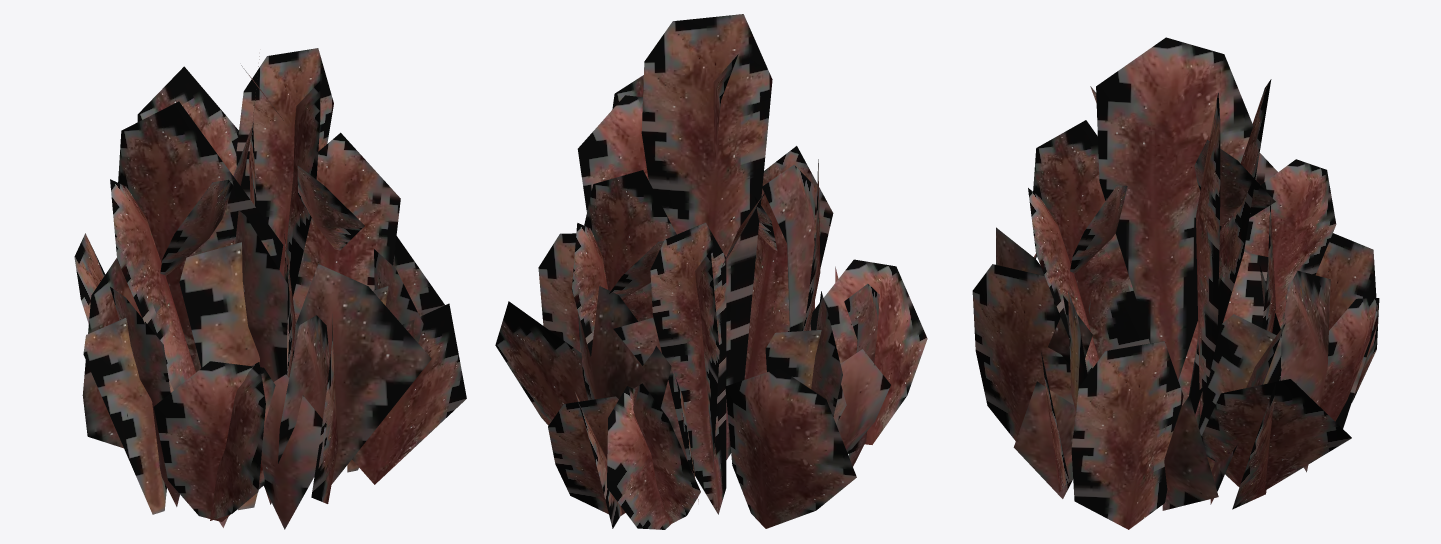
Rendered from RedAlgae01-transformed.glb.
3 renders of one model, left to right at view 1: azimuth 30°, elevation 25°; view 2: azimuth 150°, elevation 25°; view 3: azimuth 270°, elevation 25°, orthographic. The views are drawn at different scales.
Visible parts, largest first — view 1: RedAlgae01; view 2: RedAlgae01; view 3: RedAlgae01.
Boxes of the visible parts, x1,y1,x2,y2 form: RedAlgae01: [74, 48, 466, 529]; RedAlgae01: [495, 14, 927, 529]; RedAlgae01: [972, 37, 1379, 529].
Size of the model in its own units: 0.8811 by 0.9975 by 0.9325.
Materials: 1 (1 with a texture image).
